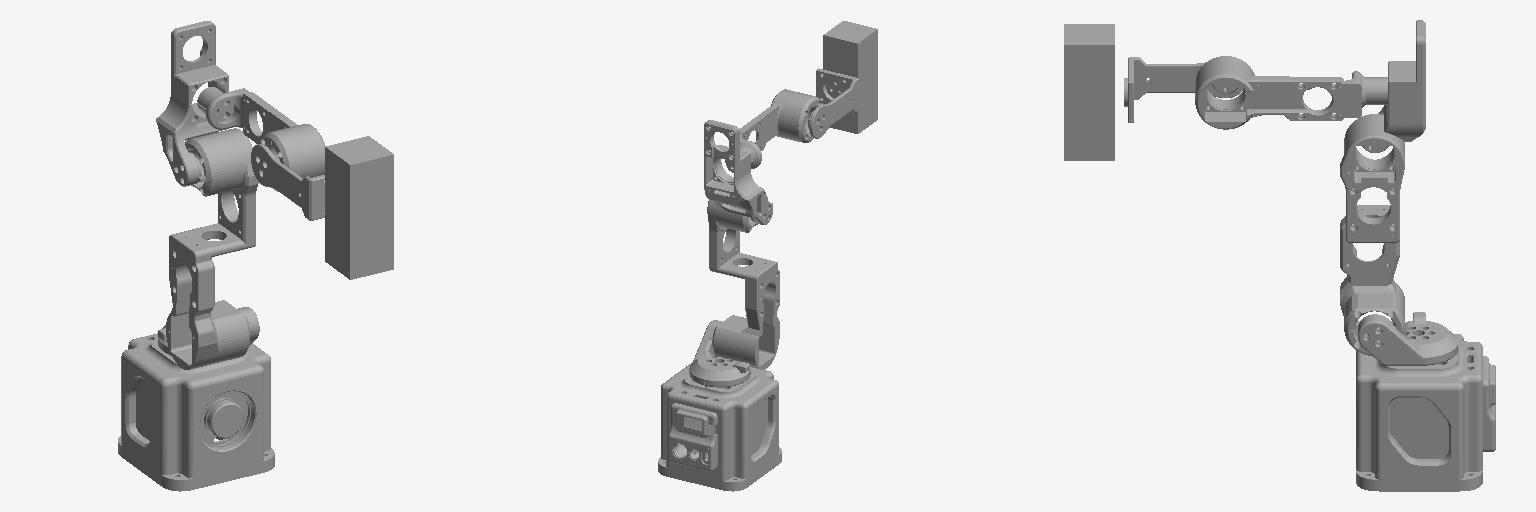
robot.urdf — dummy:
<?xml version="1.0" ?>
<!-- =================================================================================== -->
<!-- |    This document was autogenerated by xacro from src/dummy-ros2_description/urdf/dummy-ros2.xacro | -->
<!-- |    EDITING THIS FILE BY HAND IS NOT RECOMMENDED                                 | -->
<!-- =================================================================================== -->
<robot name="dummy">
  <material name="silver">
    <color rgba="0.700 0.700 0.700 1.000"/>
  </material>
  <transmission name="Joint1_tran">
    <type>transmission_interface/SimpleTransmission</type>
    <joint name="Joint1">
      <hardwareInterface>hardware_interface/EffortJointInterface</hardwareInterface>
    </joint>
    <actuator name="Joint1_actr">
      <hardwareInterface>hardware_interface/EffortJointInterface</hardwareInterface>
      <mechanicalReduction>1</mechanicalReduction>
    </actuator>
  </transmission>
  <transmission name="Joint2_tran">
    <type>transmission_interface/SimpleTransmission</type>
    <joint name="Joint2">
      <hardwareInterface>hardware_interface/EffortJointInterface</hardwareInterface>
    </joint>
    <actuator name="Joint2_actr">
      <hardwareInterface>hardware_interface/EffortJointInterface</hardwareInterface>
      <mechanicalReduction>1</mechanicalReduction>
    </actuator>
  </transmission>
  <transmission name="Joint3_tran">
    <type>transmission_interface/SimpleTransmission</type>
    <joint name="Joint3">
      <hardwareInterface>hardware_interface/EffortJointInterface</hardwareInterface>
    </joint>
    <actuator name="Joint3_actr">
      <hardwareInterface>hardware_interface/EffortJointInterface</hardwareInterface>
      <mechanicalReduction>1</mechanicalReduction>
    </actuator>
  </transmission>
  <transmission name="Joint4_tran">
    <type>transmission_interface/SimpleTransmission</type>
    <joint name="Joint4">
      <hardwareInterface>hardware_interface/EffortJointInterface</hardwareInterface>
    </joint>
    <actuator name="Joint4_actr">
      <hardwareInterface>hardware_interface/EffortJointInterface</hardwareInterface>
      <mechanicalReduction>1</mechanicalReduction>
    </actuator>
  </transmission>
  <transmission name="Joint5_tran">
    <type>transmission_interface/SimpleTransmission</type>
    <joint name="Joint5">
      <hardwareInterface>hardware_interface/EffortJointInterface</hardwareInterface>
    </joint>
    <actuator name="Joint5_actr">
      <hardwareInterface>hardware_interface/EffortJointInterface</hardwareInterface>
      <mechanicalReduction>1</mechanicalReduction>
    </actuator>
  </transmission>
  <transmission name="Joint6_tran">
    <type>transmission_interface/SimpleTransmission</type>
    <joint name="Joint6">
      <hardwareInterface>hardware_interface/EffortJointInterface</hardwareInterface>
    </joint>
    <actuator name="Joint6_actr">
      <hardwareInterface>hardware_interface/EffortJointInterface</hardwareInterface>
      <mechanicalReduction>1</mechanicalReduction>
    </actuator>
  </transmission>
  <gazebo>
    <plugin filename="libgazebo_ros_control.so" name="control"/>
  </gazebo>
  <gazebo reference="base_link">
    <material>Gazebo/Silver</material>
    <mu1>0.2</mu1>
    <mu2>0.2</mu2>
    <self_collide>true</self_collide>
    <gravity>true</gravity>
  </gazebo>
  <gazebo reference="link1_1_1">
    <material>Gazebo/Silver</material>
    <mu1>0.2</mu1>
    <mu2>0.2</mu2>
    <self_collide>true</self_collide>
  </gazebo>
  <gazebo reference="link2_1_1">
    <material>Gazebo/Silver</material>
    <mu1>0.2</mu1>
    <mu2>0.2</mu2>
    <self_collide>true</self_collide>
  </gazebo>
  <gazebo reference="link3_1_1">
    <material>Gazebo/Silver</material>
    <mu1>0.2</mu1>
    <mu2>0.2</mu2>
    <self_collide>true</self_collide>
  </gazebo>
  <gazebo reference="link4_1_1">
    <material>Gazebo/Silver</material>
    <mu1>0.2</mu1>
    <mu2>0.2</mu2>
    <self_collide>true</self_collide>
  </gazebo>
  <gazebo reference="link5_1_1">
    <material>Gazebo/Silver</material>
    <mu1>0.2</mu1>
    <mu2>0.2</mu2>
    <self_collide>true</self_collide>
  </gazebo>
  <gazebo reference="link6_1_1">
    <material>Gazebo/Silver</material>
    <mu1>0.2</mu1>
    <mu2>0.2</mu2>
    <self_collide>true</self_collide>
  </gazebo>
  <link name="world"/>
  <joint name="world_joint" type="fixed">
    <parent link="world"/>
    <child link="base_link"/>
    <origin rpy="3.1415926536 3.1415926536 0.0" xyz="0.0 0.0 0.0"/>
  </joint>
  <link name="base_link">
    <inertial>
      <origin rpy="0 0 0" xyz="-0.019286443307707055 0.0005817485706867557 0.05546290448958129"/>
      <mass value="3.4054232030550327"/>
      <inertia ixx="0.006318" ixy="-1.1e-05" ixz="-2e-06" iyy="0.00644" iyz="-0.000164" izz="0.006723"/>
    </inertial>
    <visual>
      <origin rpy="0 0 0" xyz="0 0 0"/>
      <geometry>
        <mesh filename="./meshes/base_link.stl" scale="0.001 0.001 0.001"/>
      </geometry>
      <material name="silver"/>
    </visual>
    <collision>
      <origin rpy="0 0 0" xyz="0 0 0"/>
      <geometry>
        <mesh filename="./meshes/base_link.stl" scale="0.001 0.001 0.001"/>
      </geometry>
    </collision>
  </link>
  <link name="link1_1_1">
    <inertial>
      <origin rpy="0 0 0" xyz="-0.005744742318232344 0.005464327027038366 0.012045619429015192"/>
      <mass value="0.4000119946706078"/>
      <inertia ixx="0.000172" ixy="5.8e-05" ixz="2.7e-05" iyy="0.000152" iyz="-3.9e-05" izz="0.00025"/>
    </inertial>
    <visual>
      <origin rpy="0 0 0" xyz="0.019225 0.000523 -0.100684"/>
      <geometry>
        <mesh filename="./meshes/link1_1_1.stl" scale="0.001 0.001 0.001"/>
      </geometry>
      <material name="silver"/>
    </visual>
    <collision>
      <origin rpy="0 0 0" xyz="0.019225 0.000523 -0.100684"/>
      <geometry>
        <mesh filename="./meshes/link1_1_1.stl" scale="0.001 0.001 0.001"/>
      </geometry>
    </collision>
  </link>
  <link name="link2_1_1">
    <inertial>
      <origin rpy="0 0 0" xyz="0.022476329402049397 0.0015836740439541114 0.0701478637986927"/>
      <mass value="0.9644194016592866"/>
      <inertia ixx="0.003808" ixy="-1e-05" ixz="0.000274" iyy="0.003848" iyz="1.3e-05" izz="0.000499"/>
    </inertial>
    <visual>
      <origin rpy="0 0 0" xyz="0.034725 -0.034477 -0.129184"/>
      <geometry>
        <mesh filename="./meshes/link2_1_1.stl" scale="0.001 0.001 0.001"/>
      </geometry>
      <material name="silver"/>
    </visual>
    <collision>
      <origin rpy="0 0 0" xyz="0.034725 -0.034477 -0.129184"/>
      <geometry>
        <mesh filename="./meshes/link2_1_1.stl" scale="0.001 0.001 0.001"/>
      </geometry>
    </collision>
  </link>
  <link name="link3_1_1">
    <inertial>
      <origin rpy="0 0 0" xyz="-0.010730263185093621 -0.022369081214190782 0.036467614070683996"/>
      <mass value="0.3817226974329336"/>
      <inertia ixx="0.000328" ixy="-2.4e-05" ixz="6.5e-05" iyy="0.00037" iyz="6.8e-05" izz="0.000146"/>
    </inertial>
    <visual>
      <origin rpy="0 0 0" xyz="-0.001925 -0.034477 -0.275184"/>
      <geometry>
        <mesh filename="./meshes/link3_1_1.stl" scale="0.001 0.001 0.001"/>
      </geometry>
      <material name="silver"/>
    </visual>
    <collision>
      <origin rpy="0 0 0" xyz="-0.001925 -0.034477 -0.275184"/>
      <geometry>
        <mesh filename="./meshes/link3_1_1.stl" scale="0.001 0.001 0.001"/>
      </geometry>
    </collision>
  </link>
  <link name="link4_1_1">
    <inertial>
      <origin rpy="0 0 0" xyz="-0.004221306676286125 0.09021372117053507 0.00026828289249919424"/>
      <mass value="0.44370009904209484"/>
      <inertia ixx="0.001103" ixy="-3.2e-05" ixz="1e-06" iyy="0.00012" iyz="-1e-06" izz="0.001078"/>
    </inertial>
    <visual>
      <origin rpy="0 0 0" xyz="0.016625 -0.024477 -0.327184"/>
      <geometry>
        <mesh filename="./meshes/link4_1_1.stl" scale="0.001 0.001 0.001"/>
      </geometry>
      <material name="silver"/>
    </visual>
    <collision>
      <origin rpy="0 0 0" xyz="0.016625 -0.024477 -0.327184"/>
      <geometry>
        <mesh filename="./meshes/link4_1_1.stl" scale="0.001 0.001 0.001"/>
      </geometry>
    </collision>
  </link>
  <link name="link5_1_1">
    <inertial>
      <origin rpy="0 0 0" xyz="-0.0007044959912857188 0.04181588666040692 1.9856549020258463e-05"/>
      <mass value="0.1329416987985629"/>
      <inertia ixx="0.000148" ixy="3e-05" ixz="0.0" iyy="3.5e-05" iyz="-0.0" izz="0.00016"/>
    </inertial>
    <visual>
      <origin rpy="0 0 0" xyz="-0.000175 -0.151477 -0.327184"/>
      <geometry>
        <mesh filename="./meshes/link5_1_1.stl" scale="0.001 0.001 0.001"/>
      </geometry>
      <material name="silver"/>
    </visual>
    <collision>
      <origin rpy="0 0 0" xyz="-0.000175 -0.151477 -0.327184"/>
      <geometry>
        <mesh filename="./meshes/link5_1_1.stl" scale="0.001 0.001 0.001"/>
      </geometry>
    </collision>
  </link>
  <link name="link6_1_1">
    <inertial>
      <origin rpy="0 0 0" xyz="8.866549679534264e-08 0.001500477150790519 2.701463612808652e-07"/>
      <mass value="0.00918018258883941"/>
      <inertia ixx="0.0" ixy="0.0" ixz="-0.0" iyy="1e-06" iyz="0.0" izz="0.0"/>
    </inertial>
    <visual>
      <origin rpy="0 0 0" xyz="0.018331 -0.228477 -0.327078"/>
      <geometry>
        <mesh filename="./meshes/link6_1_1.stl" scale="0.001 0.001 0.001"/>
      </geometry>
      <material name="silver"/>
    </visual>
    <collision>
      <origin rpy="0 0 0" xyz="0.018331 -0.228477 -0.327078"/>
      <geometry>
        <mesh filename="./meshes/link6_1_1.stl" scale="0.001 0.001 0.001"/>
      </geometry>
    </collision>
  </link>
  <link name="tool0">
    <inertial>
      <origin rpy="0 0 0" xyz="0 0 0.05"/> <!-- 假设重心位于矩形中间偏前 -->
      <mass value="0.05"/>
      <inertia ixx="1e-5" ixy="0.0" ixz="0.0" iyy="1e-5" iyz="0.0" izz="1e-5"/>
    </inertial>
    <visual>
      <origin rpy="0 0 0" xyz="0 0 0.05"/> <!-- 相机的几何中心 -->
      <geometry>
        <box size="0.04 0.04 0.1"/> <!-- 4x4x10 cm 的相机形状 -->
      </geometry>
      <material name="silver"/>
    </visual>
    <collision>
      <origin rpy="0 0 0" xyz="0 0 0.05"/>
      <geometry>
        <box size="0.04 0.04 0.1"/>
      </geometry>
    </collision>
  </link>
  <joint name="Joint1" type="revolute">
    <origin rpy="0 0 0" xyz="-0.019225 -0.000523 0.100684"/>
    <parent link="base_link"/>
    <child link="link1_1_1"/>
    <axis xyz="0.0 -0.0 -1.0"/>
    <limit effort="150" lower="-2.93" upper="2.18" velocity="1.00"/>
  </joint>
  <joint name="Joint2" type="revolute">
    <origin rpy="0 0 0" xyz="-0.0155 0.035 0.0285"/>
    <parent link="link1_1_1"/>
    <child link="link2_1_1"/>
    <axis xyz="-1.0 -0.0 0.0"/>
    <limit effort="150" lower="-1.27" upper="1.57" velocity="1.00"/>
  </joint>
  <joint name="Joint3" type="revolute">
    <origin rpy="0 0 0" xyz="0.03665 0.0 0.146"/>
    <parent link="link2_1_1"/>
    <child link="link3_1_1"/>
    <axis xyz="-1.0 0.0 -0.0"/>
    <limit effort="150" lower="-0.87" upper="1.57" velocity="1.00"/>
  </joint>
  <joint name="Joint4" type="revolute">
    <origin rpy="0 0 0" xyz="-0.01855 -0.01 0.052"/>
    <parent link="link3_1_1"/>
    <child link="link4_1_1"/>
    <axis xyz="0.0 -1.0 0.0"/>
    <limit effort="150" lower="-3.11" upper="2.71" velocity="1.00"/>
  </joint>
  <joint name="Joint5" type="revolute">
    <origin rpy="0 0 0" xyz="0.0168 0.127 0.0"/>
    <parent link="link4_1_1"/>
    <child link="link5_1_1"/>
    <axis xyz="-1.0 0.0 -0.0"/>
    <limit effort="150" lower="-1.8" upper="1.8" velocity="1.00"/>
  </joint>
  <joint name="Joint6" type="revolute">
    <origin rpy="0 0 0" xyz="-0.018506 0.077 -0.000106"/>
    <parent link="link5_1_1"/>
    <child link="link6_1_1"/>
    <axis xyz="-0.0 -1.0 0.0"/>
    <limit effort="150" lower="-3.14" upper="3.14" velocity="1.00"/>
  </joint>
  <joint name="tool0_joint" type="fixed">
    <parent link="link6_1_1"/>
    <child link="tool0"/>
    <origin xyz="0 0.03 -0.05" rpy="0 0 0"/> <!-- 位于 link6_1_1 正前方 5 cm -->
  </joint>
</robot>

--- Render facts (derived) ---
3 views of the same robot in one strip: view 1: azimuth 30°, elevation 25°; view 2: azimuth 150°, elevation 25°; view 3: azimuth 270°, elevation 25° (orthographic).
Robot: dummy — 9 links, 8 joints (6 revolute, 2 fixed); root link world; default pose: all joints at 0.
Links seen in each view (by area): view 1: base_link, link2_1_1, tool0, link3_1_1, link4_1_1, link5_1_1, link1_1_1; view 2: base_link, link2_1_1, link3_1_1, tool0, link4_1_1, link5_1_1, link1_1_1; view 3: base_link, link2_1_1, link4_1_1, tool0, link1_1_1, link3_1_1, link5_1_1.
Boxes of the visible links, <box> form: base_link: <box>118,333,274,491</box>; link2_1_1: <box>166,128,258,369</box>; tool0: <box>325,136,393,279</box>; link3_1_1: <box>156,21,228,186</box>; link4_1_1: <box>197,87,324,191</box>; link5_1_1: <box>251,144,324,220</box>; link1_1_1: <box>158,307,259,355</box>; base_link: <box>658,362,781,491</box>; link2_1_1: <box>707,187,779,369</box>; link3_1_1: <box>704,120,772,224</box>; tool0: <box>823,21,877,133</box>; link4_1_1: <box>725,89,821,172</box>; link5_1_1: <box>808,68,858,138</box>; link1_1_1: <box>689,320,750,387</box>; base_link: <box>1356,334,1495,491</box>; link2_1_1: <box>1340,114,1404,355</box>; link4_1_1: <box>1195,56,1387,129</box>; tool0: <box>1064,24,1114,160</box>; link1_1_1: <box>1358,312,1457,365</box>; link3_1_1: <box>1362,20,1425,152</box>; link5_1_1: <box>1128,57,1244,122</box>.
Size in the robot's own frame: 0.1 by 0.339 by 0.3767 metres.
Meshes: 7 distinct files referenced, 7 mesh visuals loaded (7 binary STL).
